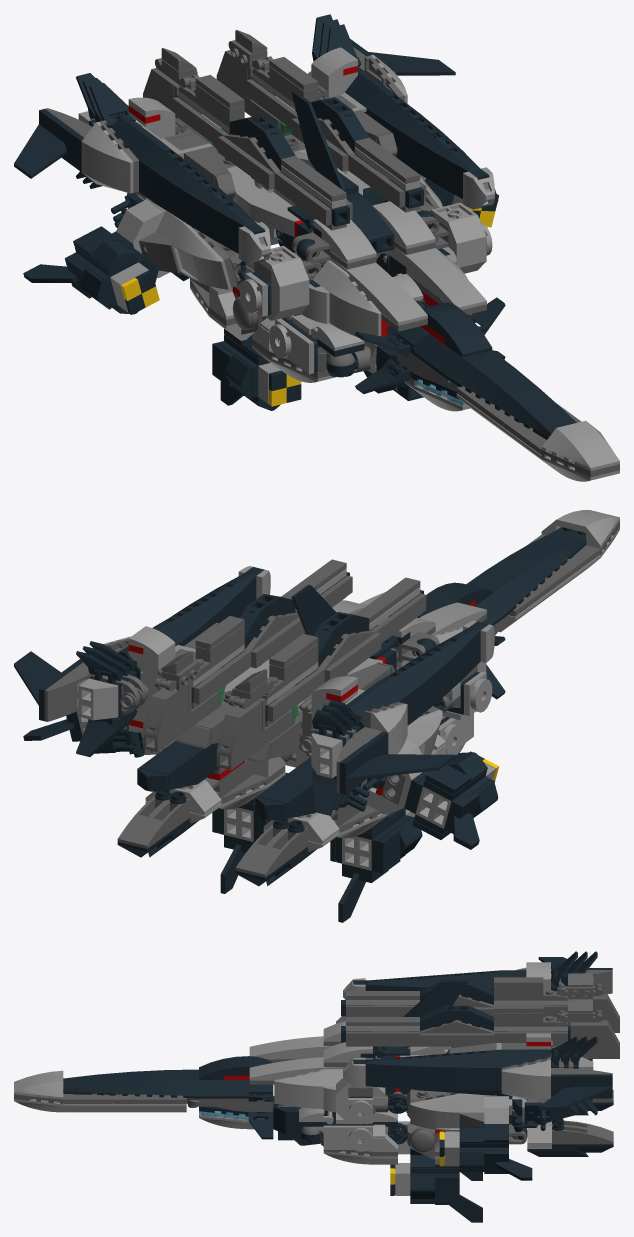
File: mtf-01-hayato-fighter.dae
3 views of the same model, one above another, from view 1: azimuth 30°, elevation 25°; view 2: azimuth 150°, elevation 25°; view 3: azimuth 270°, elevation 25° (orthographic). The views are drawn at different scales.
Size of the model in its own units: 609 by 982 by 392.
